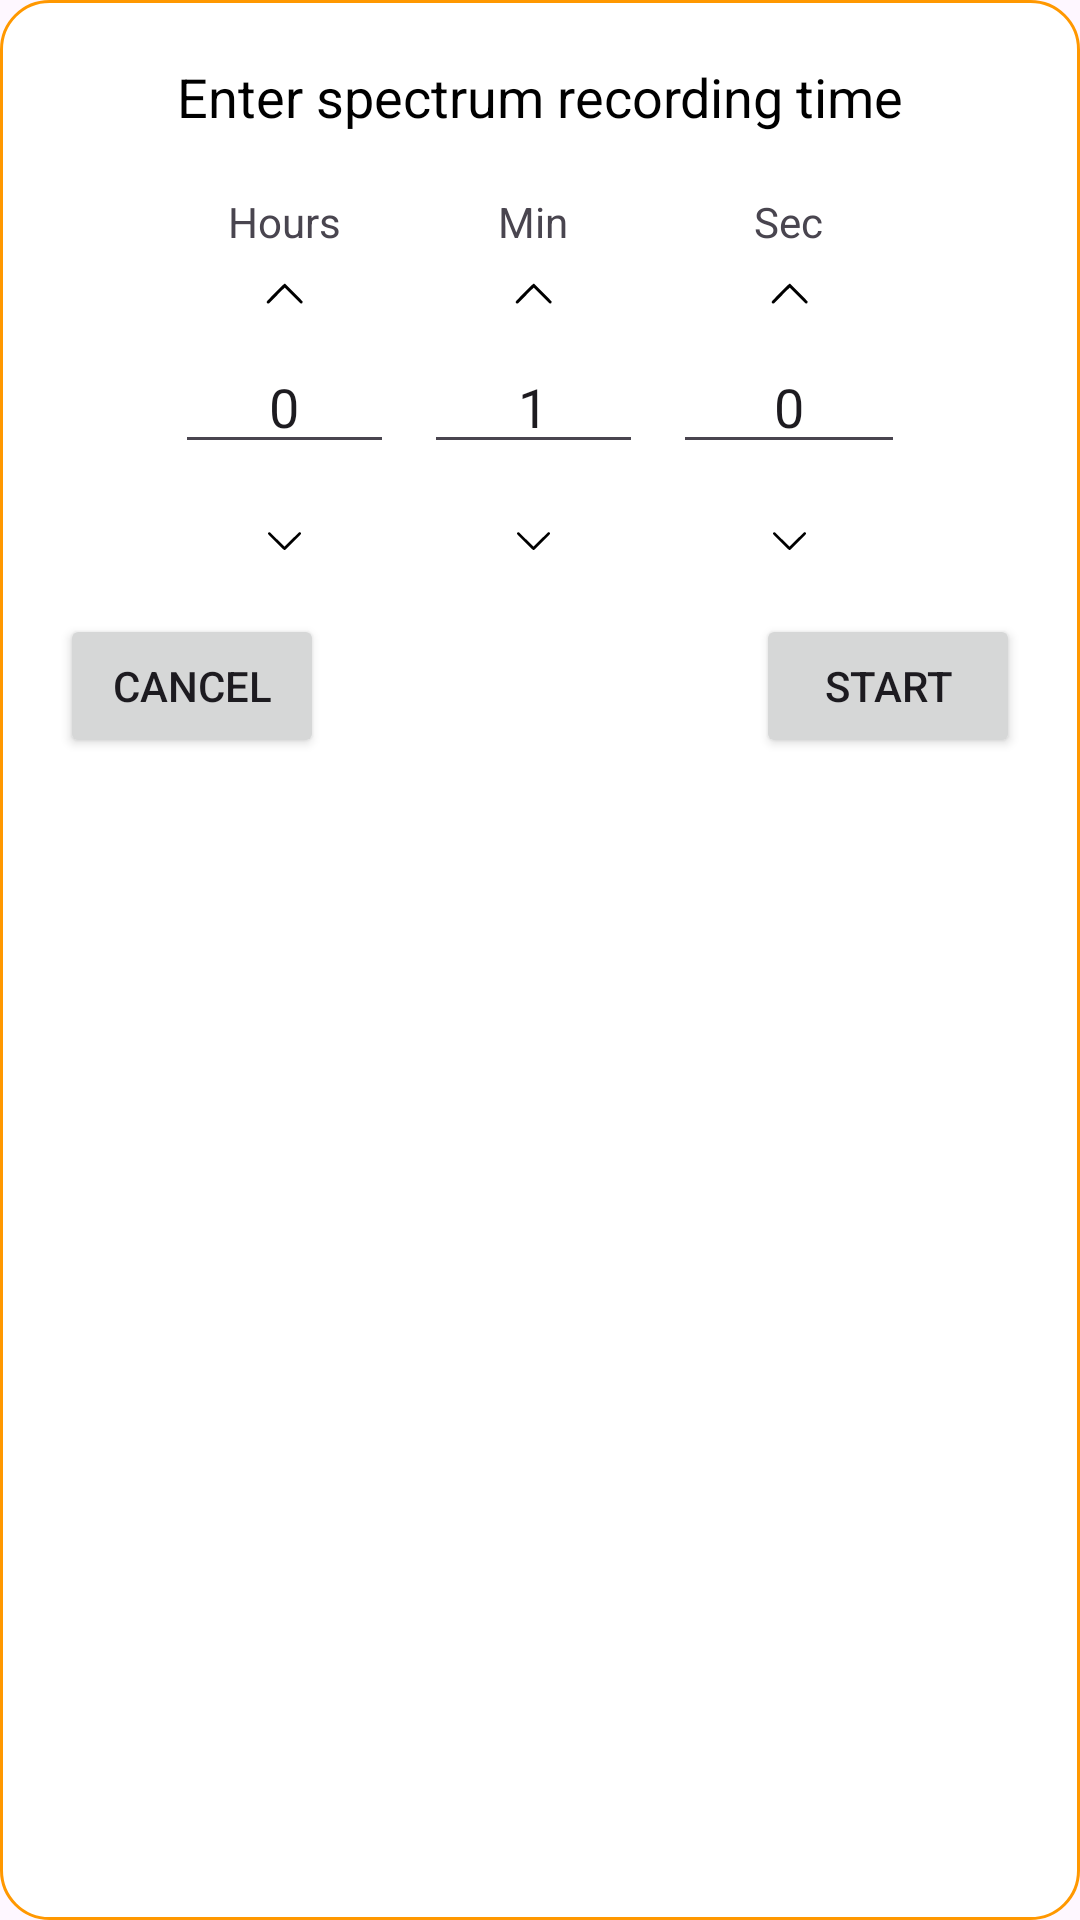

Screen size 1080w x 1920h. Icon name, then its box in pixels as bbox(x1, y1, x2, y2):
down: bbox(268, 532, 301, 550), bbox(517, 532, 550, 550), bbox(773, 532, 806, 550)
